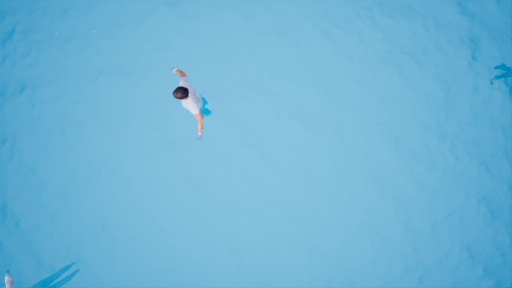person: (173, 68, 218, 137)
